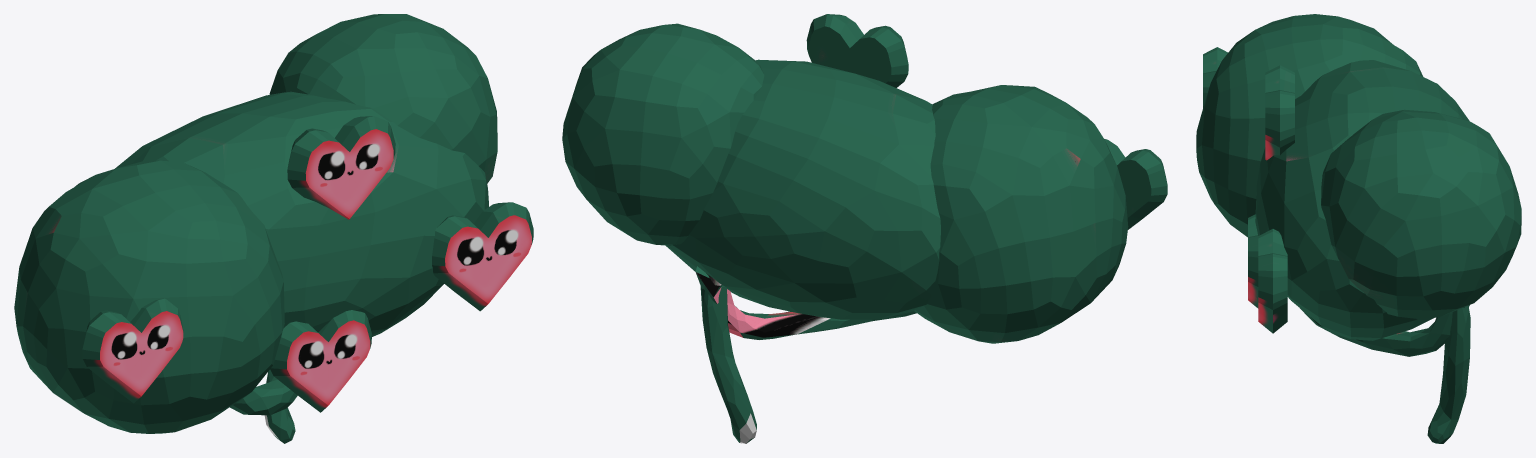
File: arbusto1.obj
3 renders of one model, left to right at view 1: azimuth 30°, elevation 25°; view 2: azimuth 150°, elevation 25°; view 3: azimuth 270°, elevation 25°, orthographic. The views are drawn at different scales.
Visible parts, largest first — view 1: Plane; view 2: Plane; view 3: Plane.
Boxes of the visible parts, x1,y1,x2,y2 form: Plane: (14,14,533,443); Plane: (562,14,1167,443); Plane: (1196,14,1521,443).
Size of the model in its own units: 32.73 by 24.63 by 20.06.
Materials: 1 (1 with a texture image).
